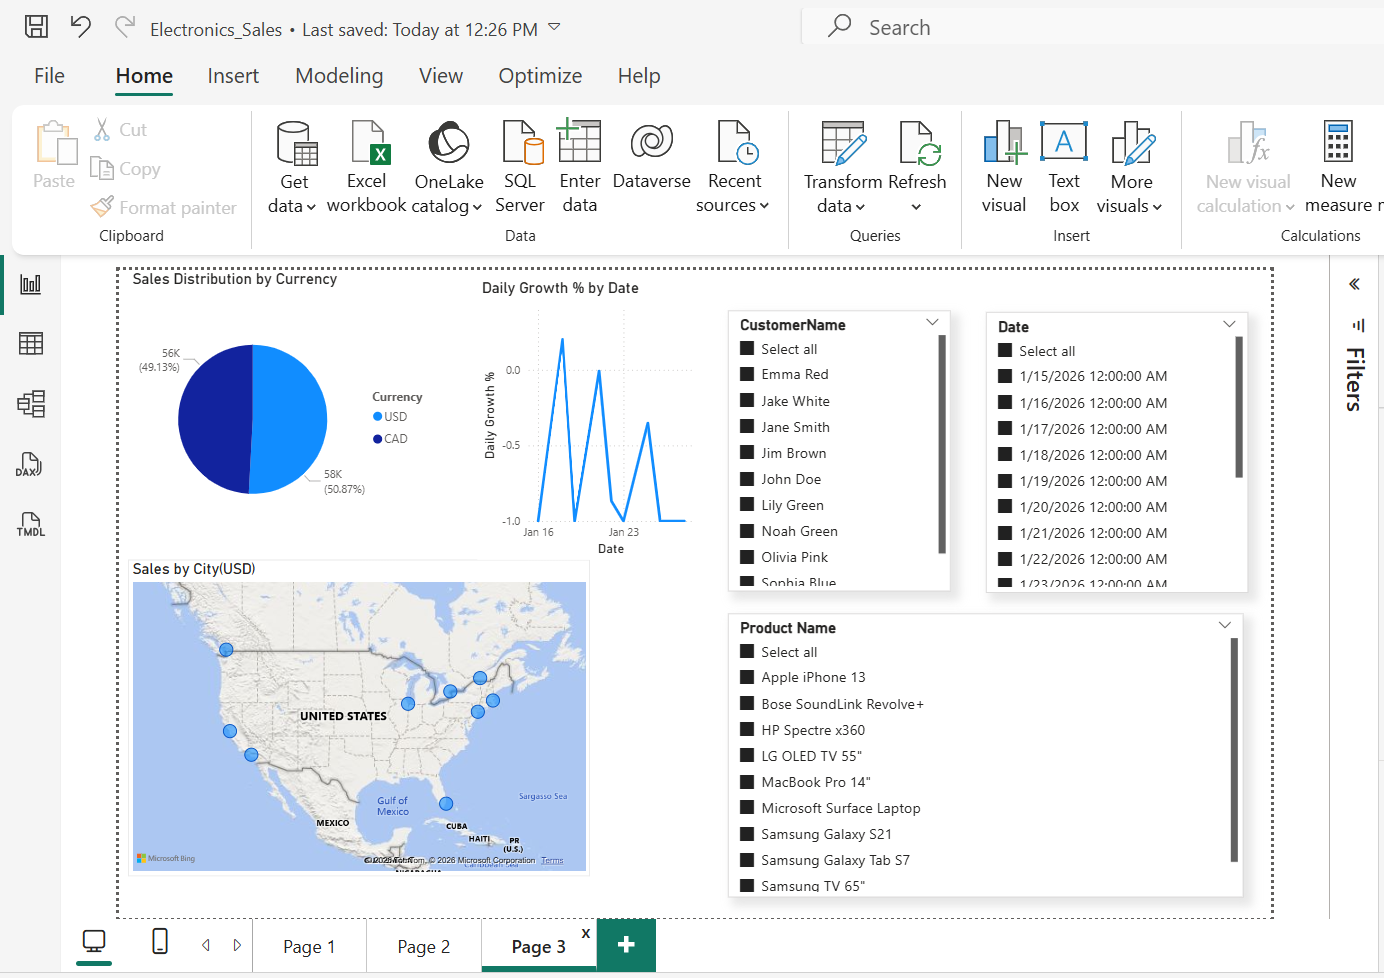

Layout of this report page (visuals, bound fields, positions):
{"tool":"powerbi","page":{"name":"Page 3","canvas":[1280,720],"ordinal":2},"visuals":[{"type":"pieChart","title":"Sales Distribution by Currency","fields":{"Y":["Sum(electronicSales.SalesAmount)"],"Category":["electronicSales.Currency"]},"box":[9.4,0,351.5,311.8],"z":0},{"type":"map","title":"Sales by City(USD)","fields":{"Category":["electronicSales.City"]},"box":[9.4,321.3,514,351.5],"z":1000},{"type":"slicer","fields":{"Values":["electronicSales.CustomerName"]},"box":[676.5,45.4,247.6,311.8],"z":2000},{"type":"slicer","fields":{"Values":["DateTable.Date"]},"box":[963.8,47.2,291,311.8],"z":3000},{"type":"slicer","fields":{"Values":["products.ProductName"]},"box":[676.5,381.7,572.6,315.6],"z":4000},{"type":"lineChart","fields":{"Category":["DateTable.Date"],"Y":["electronicSales.Daily Growth %"]},"box":[398.3,10,251.7,311.7],"z":5000}]}

Visuals, with their boxes on the page's 1280x720 design canvas (x1, y1, x2, y2). These are canvas units, not pixel positions in the 1384x978 screenshot, which may show the page scaled, cropped or inside an application window:
"Sales Distribution by Currency" pieChart: <bbox>9, 0, 361, 312</bbox>
"Sales by City(USD)" map: <bbox>9, 321, 523, 673</bbox>
slicer - electronicSales.CustomerName: <bbox>676, 45, 924, 357</bbox>
slicer - DateTable.Date: <bbox>964, 47, 1255, 359</bbox>
slicer - products.ProductName: <bbox>676, 382, 1249, 697</bbox>
lineChart - DateTable.Date x electronicSales.Daily Growth %: <bbox>398, 10, 650, 322</bbox>
